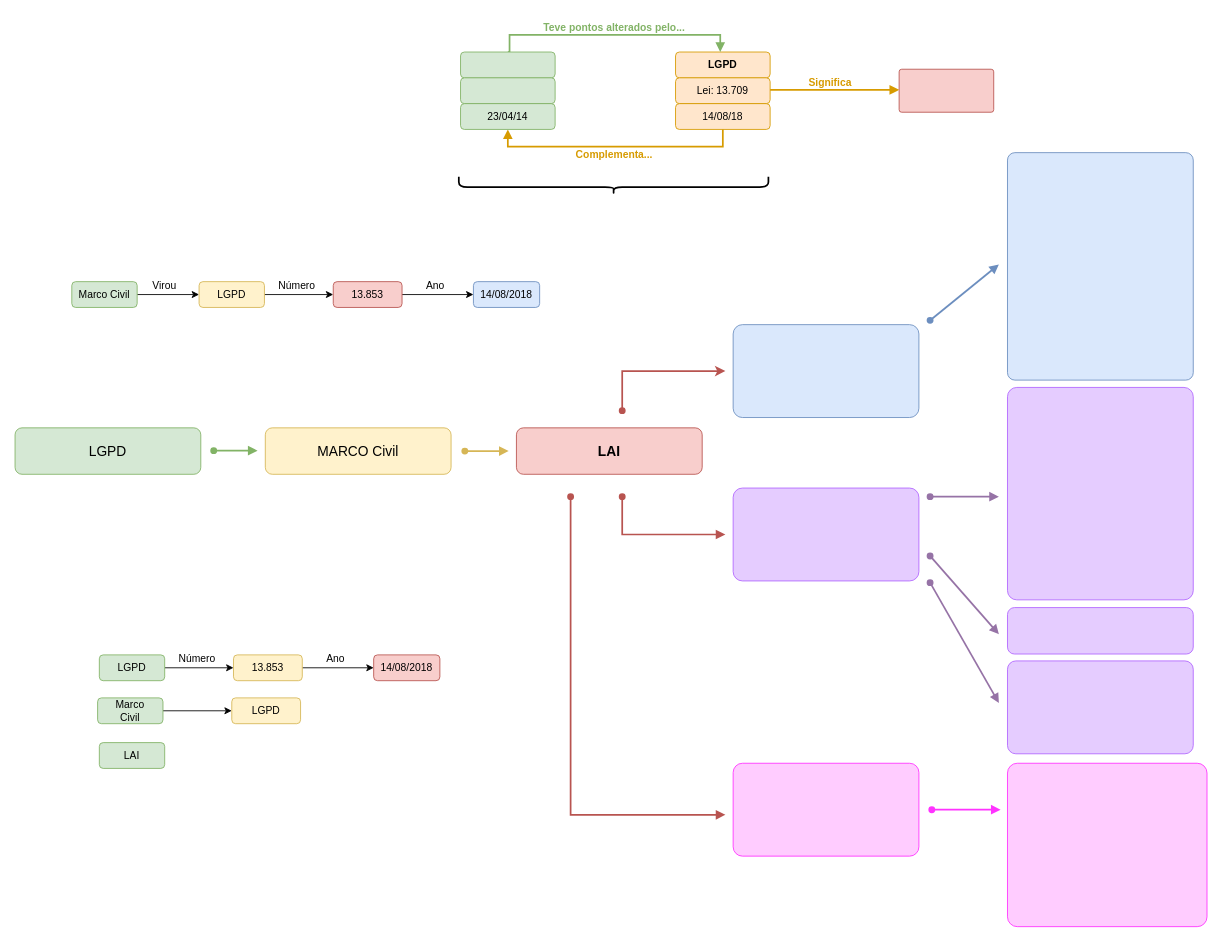
The diagram is 1222 pixels wide and 942 high, and some of its shapes have lost their labels. Here are the shapes that lost their labels. From the top down, the centre of each, then its label:
At point (507, 64): "Marco Civil da Internet".
At point (507, 90): "Lei: 12.965".
At point (946, 90): "Lei Geral de Proteção de Dados Pessoais".
At point (613, 184): "Ambas ainda existem".
